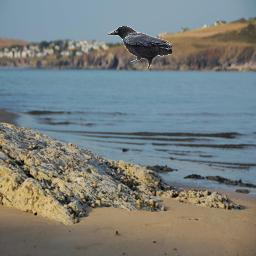Crow: (108, 26, 172, 69)
